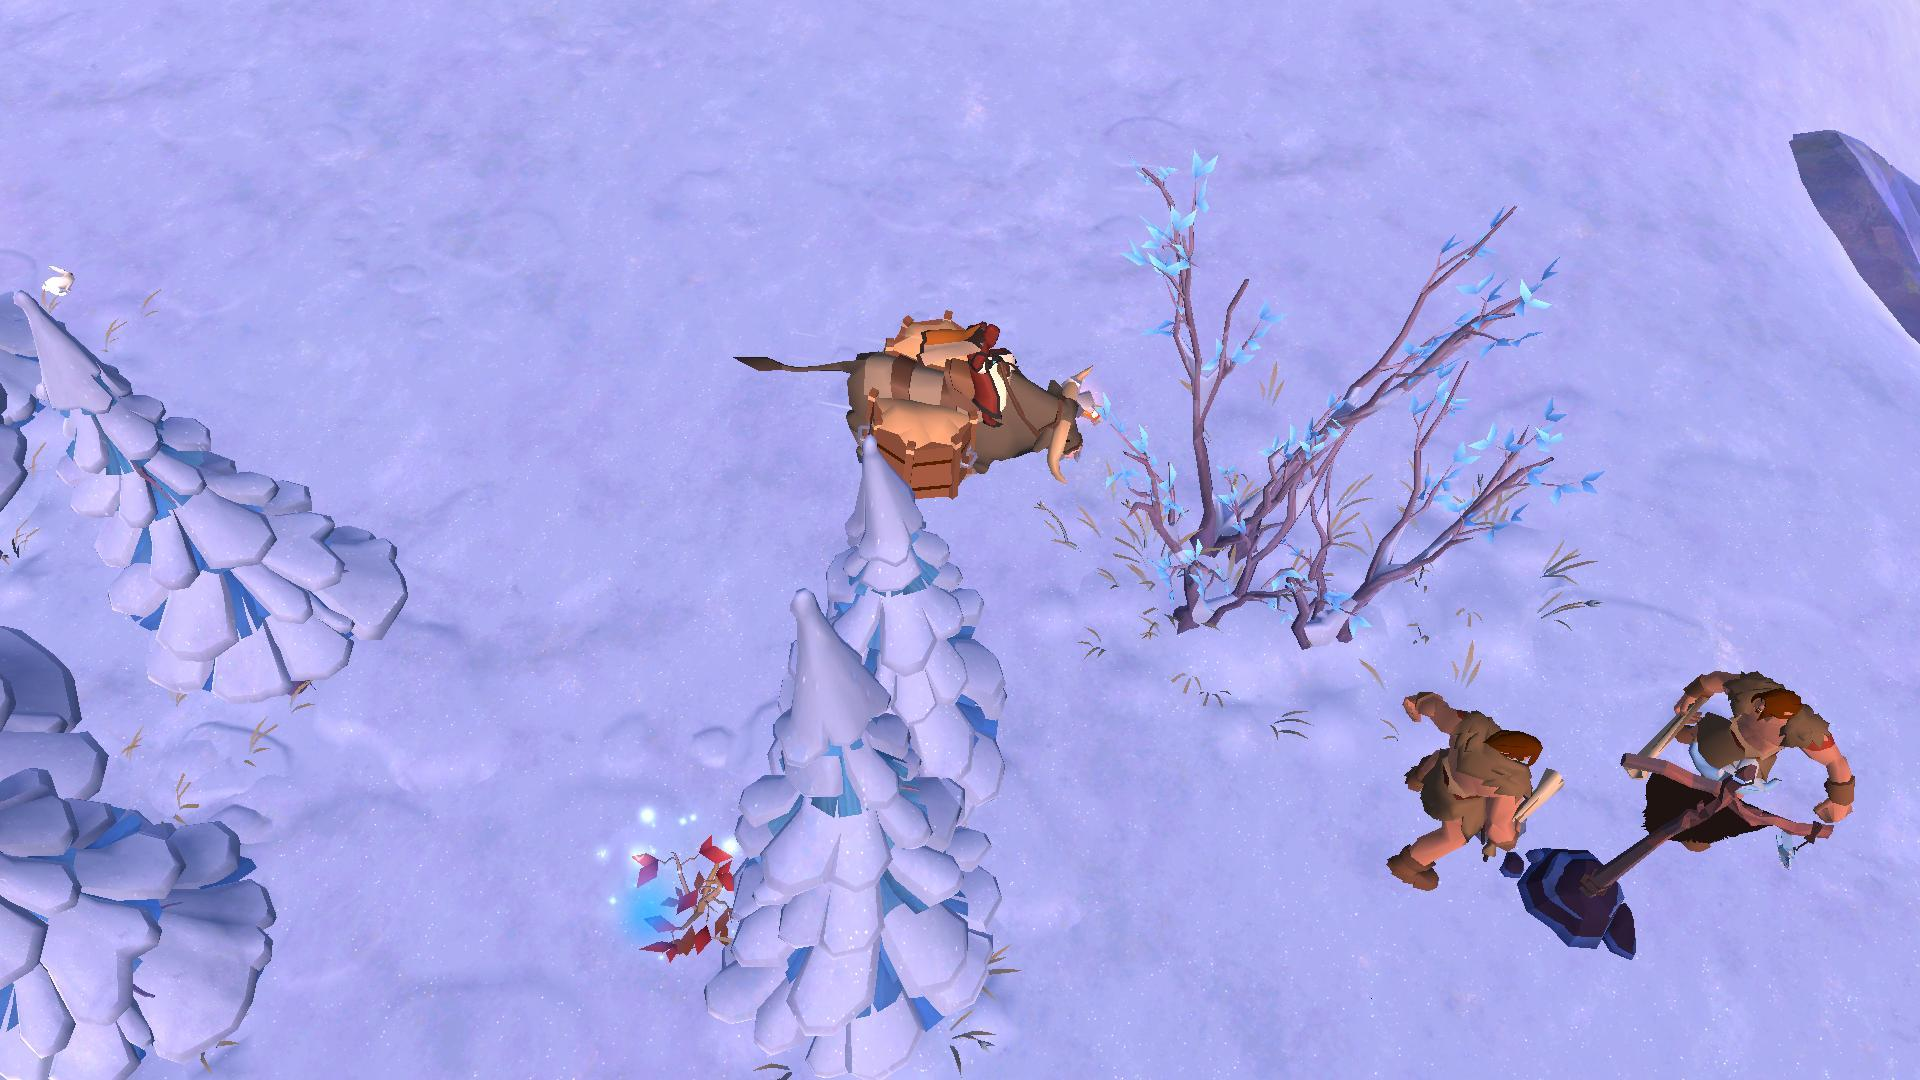enemy_factionKeeper: (1633, 641, 1850, 841), (1373, 676, 1538, 899)
